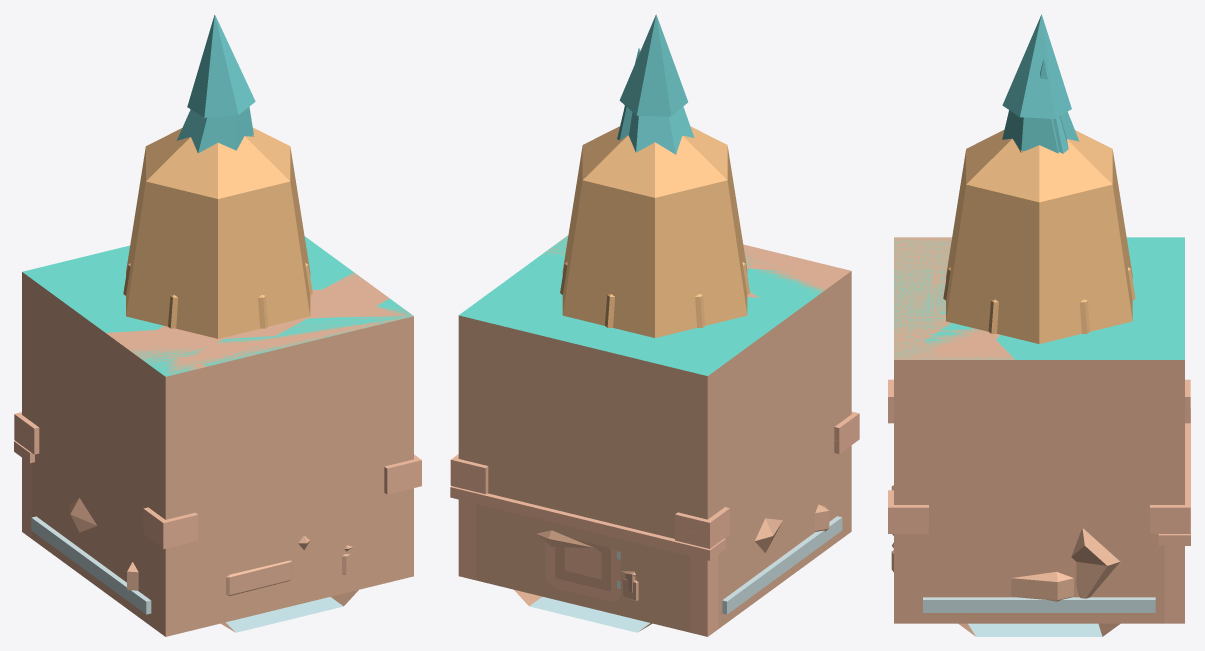
Rendered from nature.glb.
3 views of the same model, side by side, from view 1: azimuth 30°, elevation 25°; view 2: azimuth 150°, elevation 25°; view 3: azimuth 270°, elevation 25° (orthographic).
Visible parts, largest first — view 1: cliff_large_rock, cliff_block_rock, tree_default_fall, cliff_half_rock, bridge_woodRound, bridge_wood, tree_pineTallD, cliff_top_rock, cliff_rock, rock_largeC, ground_riverStraight, log_large (+3 smaller); view 2: cliff_block_rock, tree_default_fall, cliff_large_rock, bridge_wood, fence_simpleHigh, bridge_woodRound, tree_pineTallD, gate, ground_riverStraight, rock_largeD, tree_oak_fall; view 3: cliff_block_rock, tree_default_fall, cliff_large_rock, bridge_wood, cliff_rock, tree_pineTallD, bridge_woodRound, cliff_top_rock, cliff_half_rock, fence_simpleHigh, ground_riverBend, rock_largeD (+4 smaller).
Part boxes in pixels (box(x1,y1,x2,y2)): cliff_large_rock: box(105, 272, 413, 617); cliff_block_rock: box(22, 236, 360, 592); tree_default_fall: box(126, 127, 310, 338); cliff_half_rock: box(120, 456, 384, 630); bridge_woodRound: box(14, 412, 421, 636); bridge_wood: box(14, 427, 421, 636); tree_pineTallD: box(176, 14, 255, 153); cliff_top_rock: box(141, 298, 412, 599); cliff_rock: box(141, 337, 288, 599); rock_largeC: box(127, 560, 292, 596); ground_riverStraight: box(226, 590, 358, 632); log_large: box(69, 477, 118, 576); cliff_block_rock: box(458, 236, 848, 630); tree_default_fall: box(562, 126, 747, 337); cliff_large_rock: box(543, 235, 851, 549); bridge_wood: box(450, 426, 859, 632); fence_simpleHigh: box(450, 486, 725, 636); bridge_woodRound: box(450, 411, 859, 630); tree_pineTallD: box(619, 14, 694, 154); gate: box(545, 539, 620, 601); ground_riverStraight: box(514, 590, 652, 632); rock_largeD: box(536, 518, 782, 552); tree_oak_fall: box(560, 262, 749, 327); cliff_block_rock: box(894, 237, 1184, 597); tree_default_fall: box(946, 130, 1132, 343); cliff_large_rock: box(894, 237, 1015, 597); bridge_wood: box(888, 410, 1190, 623); cliff_rock: box(894, 237, 942, 592); tree_pineTallD: box(1002, 14, 1079, 153); bridge_woodRound: box(888, 379, 1190, 606); cliff_top_rock: box(894, 237, 942, 596); cliff_half_rock: box(923, 514, 996, 597); fence_simpleHigh: box(1158, 407, 1190, 623); ground_riverBend: box(958, 623, 1120, 636); rock_largeD: box(1071, 528, 1120, 598).
Size of the model in its own units: 1.07 by 2.13 by 1.04.
